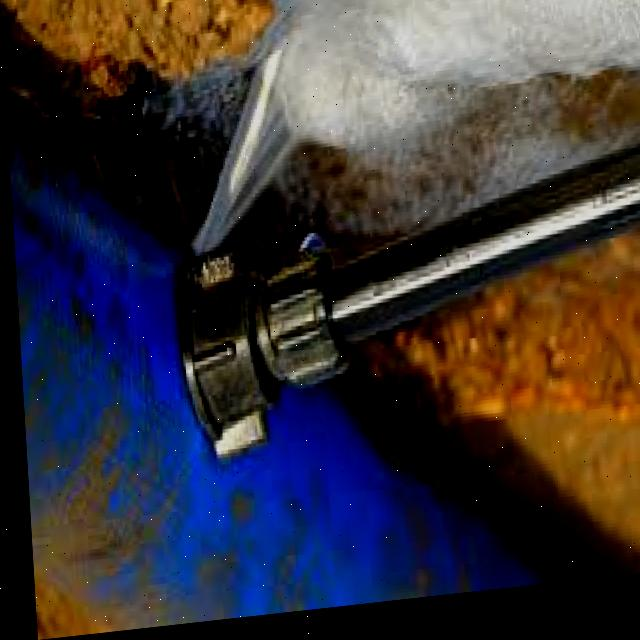corrosion: (130, 69, 349, 302)
